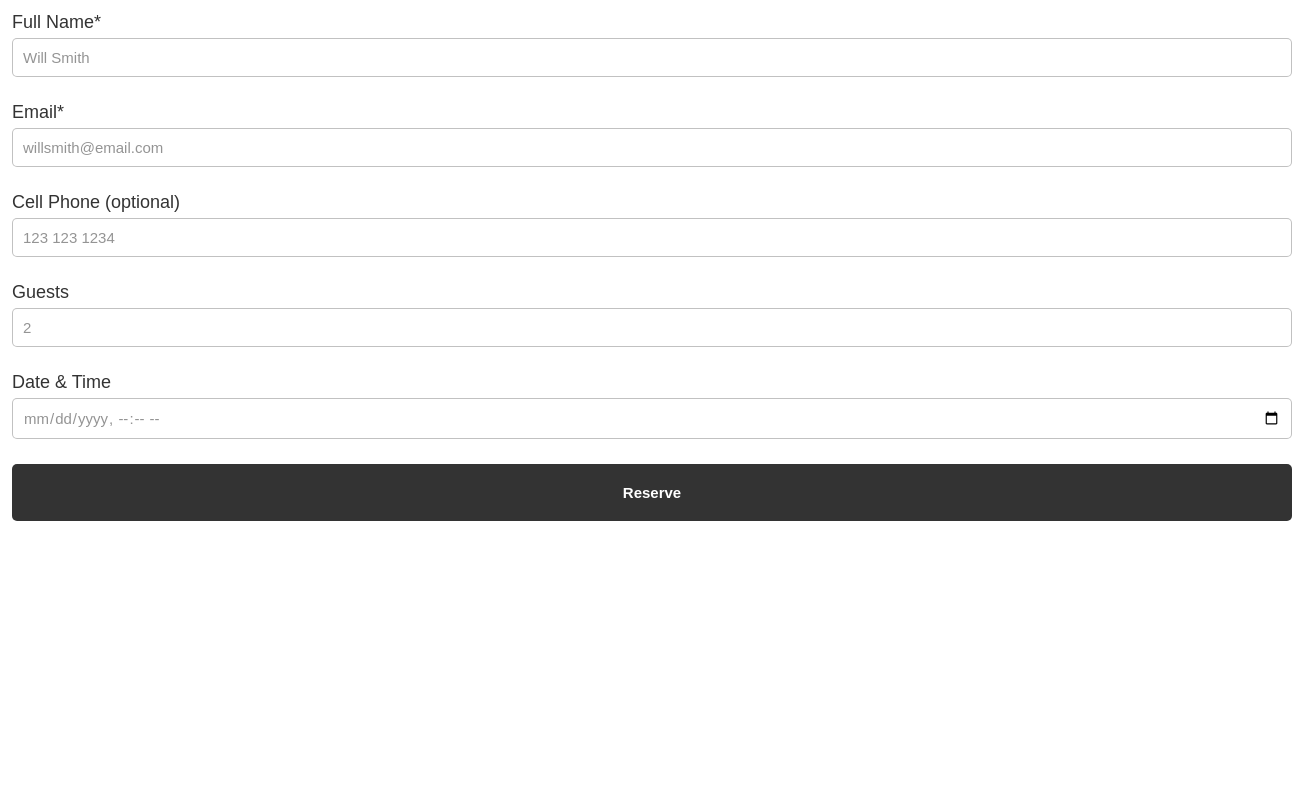
ReservationForm › displays error messages for invalid input
Submit the form without entering any data
Click the button "Reserve". click: {"x": 652, "y": 492}
box: [12, 464, 1292, 521]
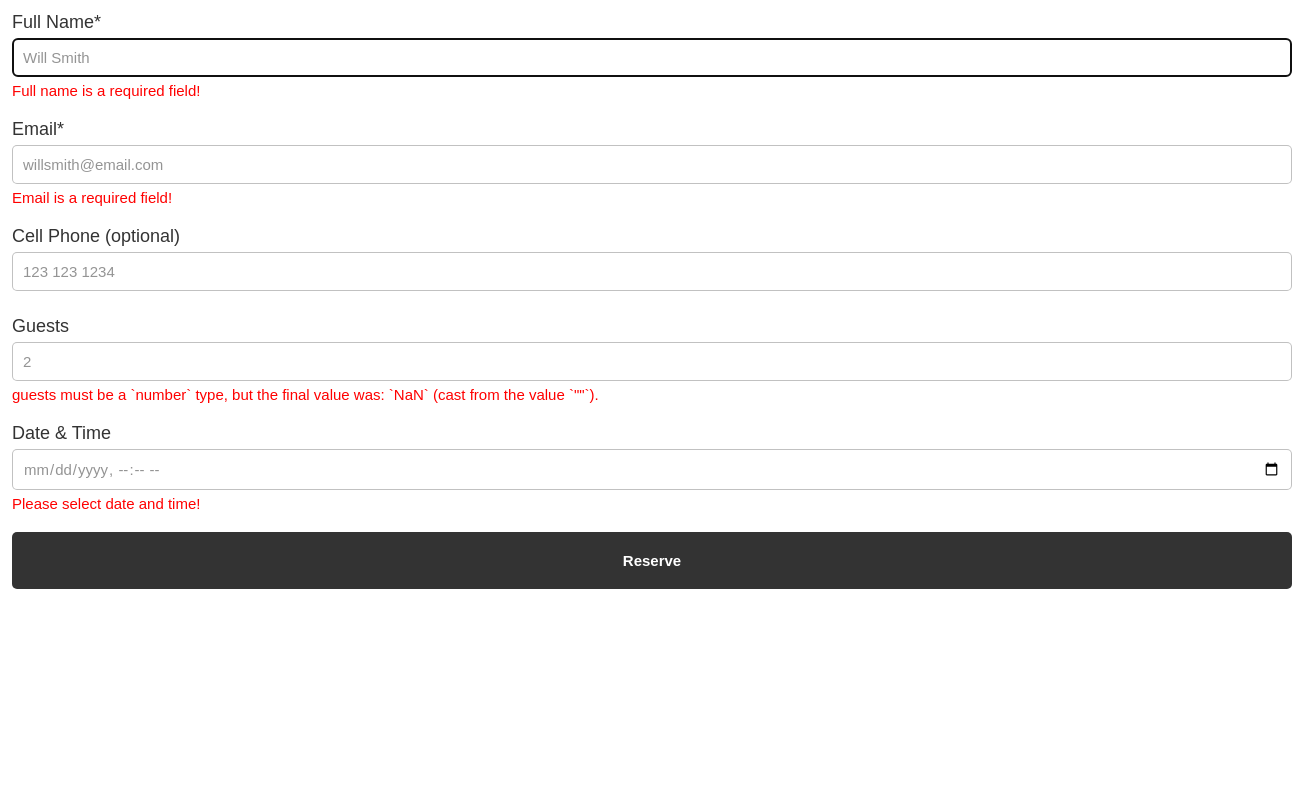
Result: the text "Full name is a required field!" is shown at [12, 82, 200, 99]
Result: the text "Email is a required field!" is shown at [12, 189, 172, 206]
